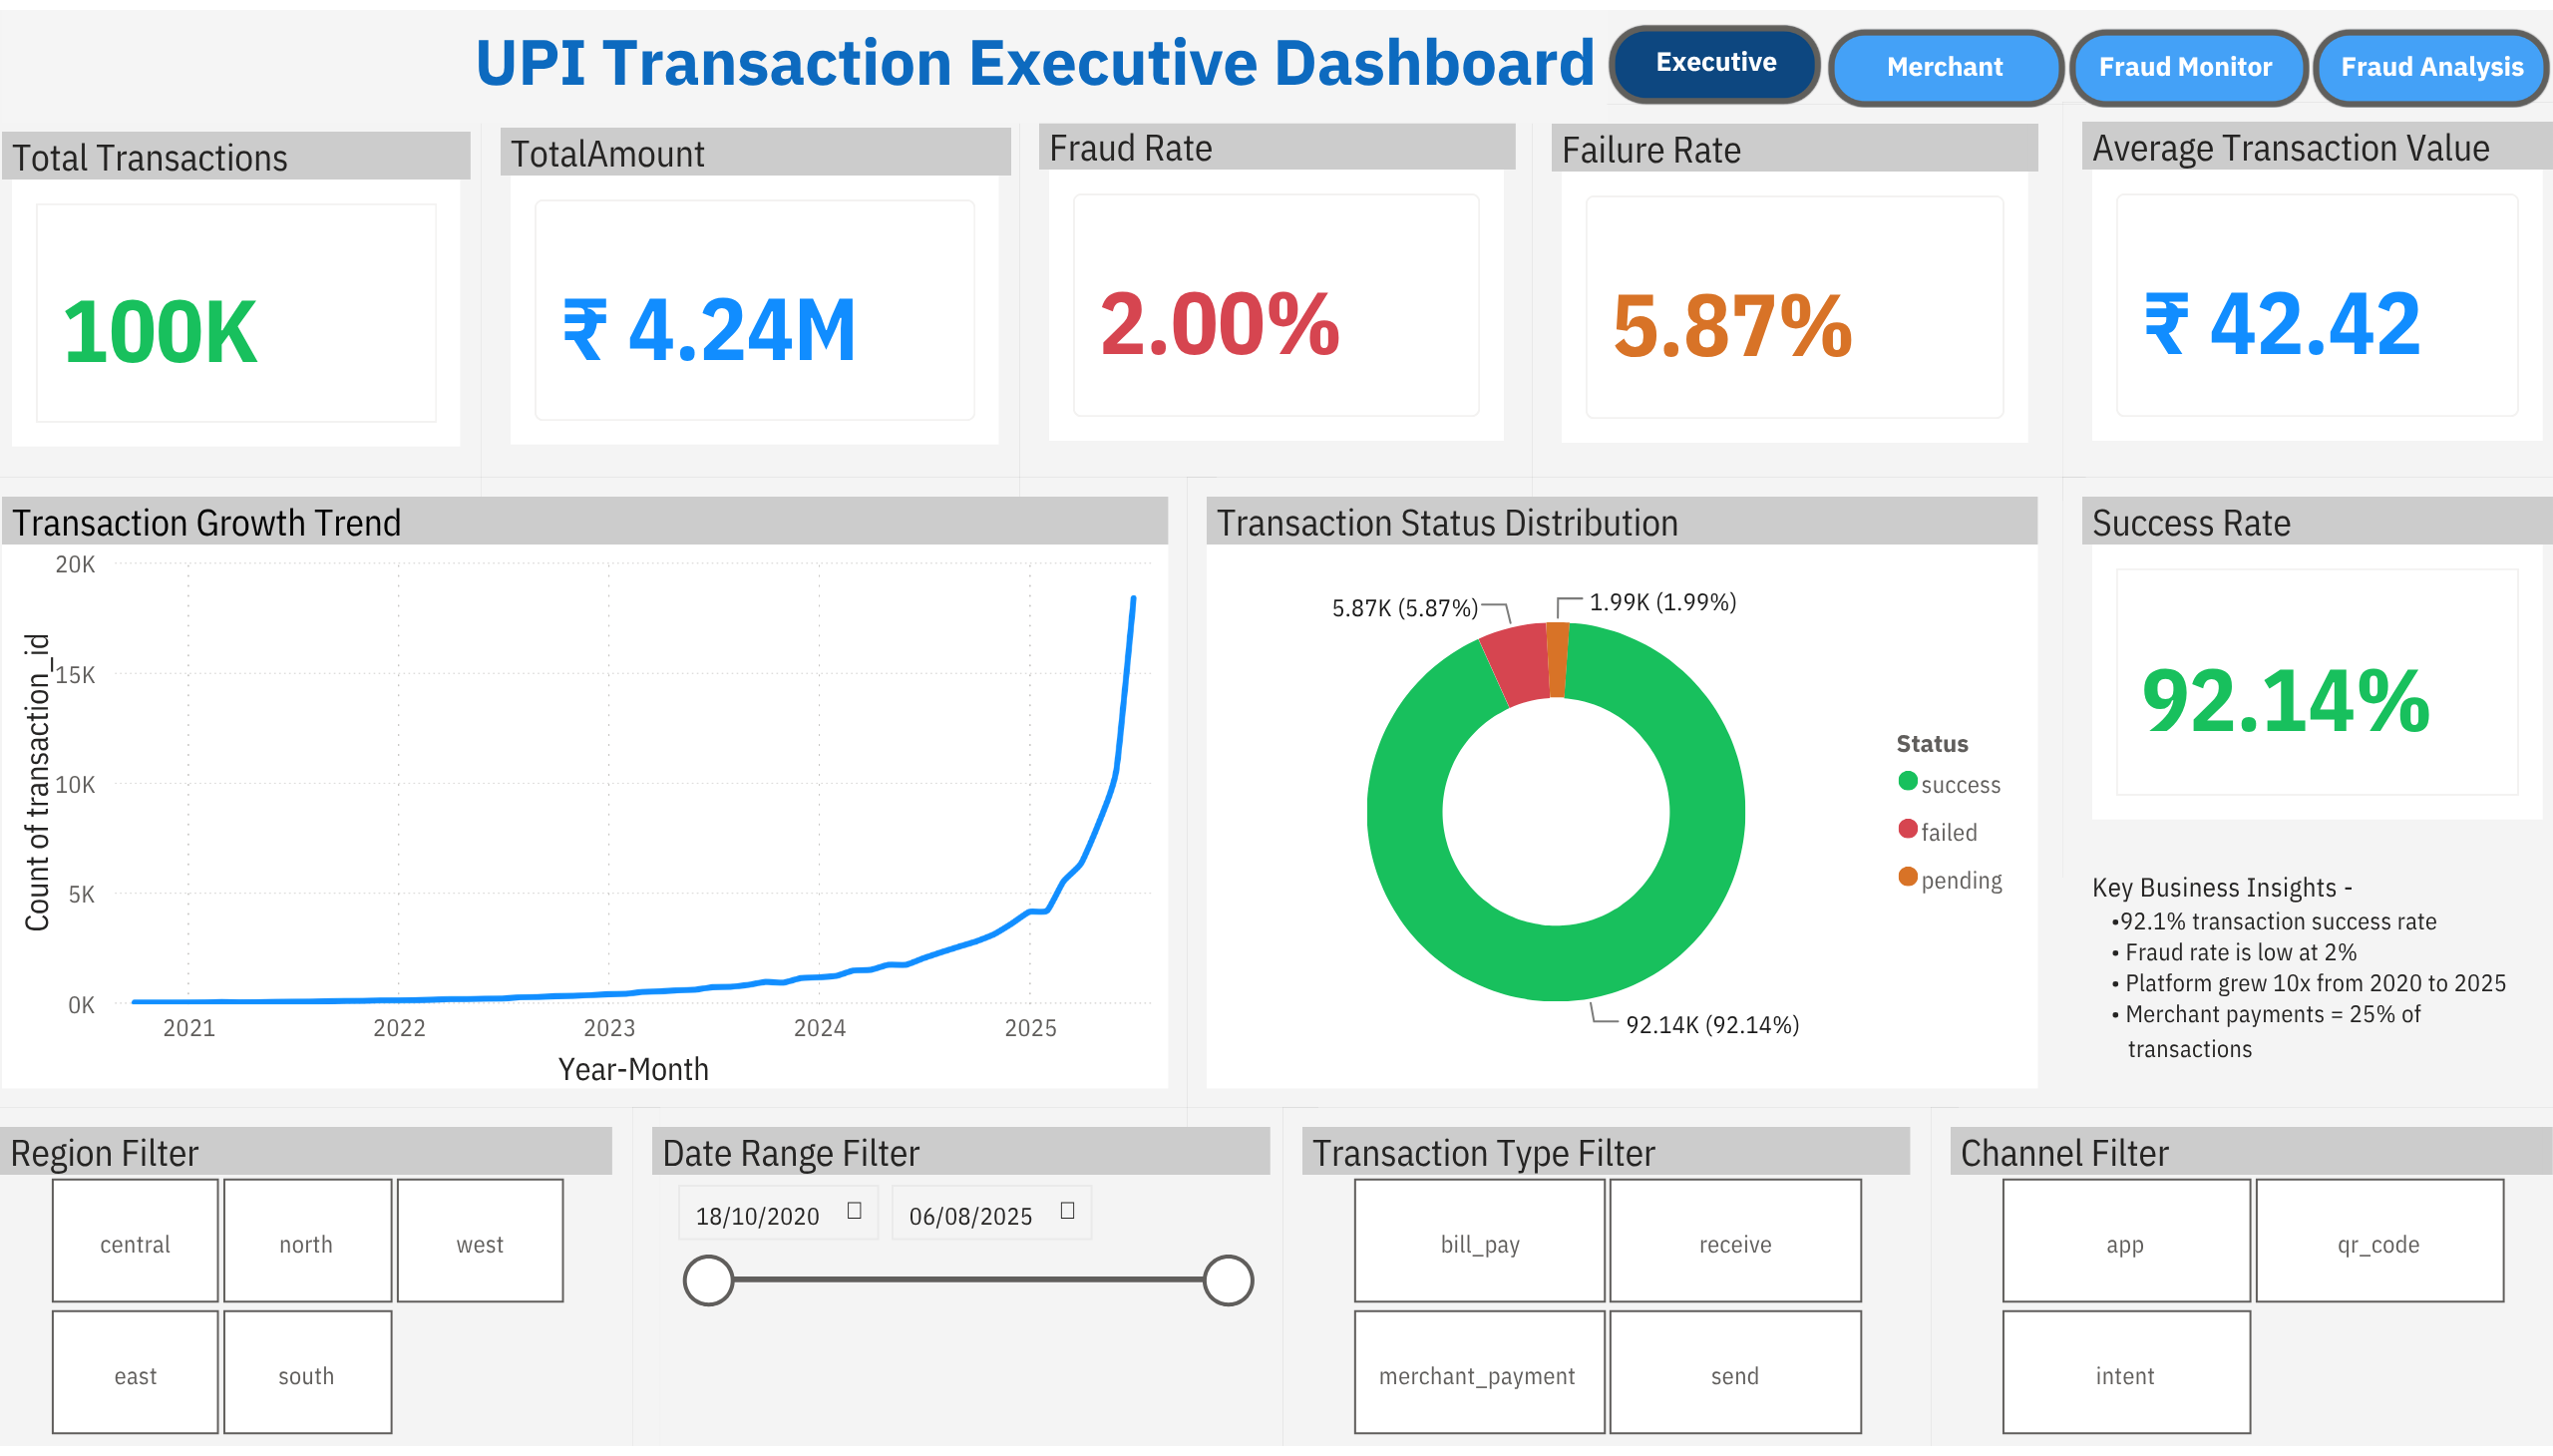

The page's visual inventory and layout, read from the dashboard file:
{"tool":"powerbi","page":{"name":"Executive Dashboard","canvas":[1280,720],"ordinal":0},"visuals":[{"type":"cardVisual","title":"Total Transactions","fields":{"Data":["upi_transaction_history.Total Transactions"]},"box":[1.2,60.7,235.2,163.4],"z":0},{"type":"cardVisual","title":"Total Amount","fields":{"Data":["upi_transaction_history.Total Amount"]},"box":[251.3,59.1,255.7,164.1],"z":1000},{"type":"cardVisual","title":"Average Transaction Value","fields":{"Data":["upi_transaction_history.Avg Transaction"]},"box":[1043.5,56.4,236.5,166],"z":2000},{"type":"cardVisual","title":"Fraud Rate","fields":{"Data":["upi_transaction_history.Fraud Rate %"]},"box":[520.7,56.4,238.6,166],"z":3000},{"type":"cardVisual","title":"Failure Rate","fields":{"Data":["upi_transaction_history.Failure Rate %"]},"box":[777.8,57.5,244.1,166],"z":4000},{"type":"areaChart","title":"Transaction Growth Trend","fields":{"Y":["CountNonNull(upi_transaction_history.transaction_id)"],"Category":["upi_transaction_history.timestamp.Variation.Date Hierarchy.Year","upi_transaction_history.timestamp.Variation.Date Hierarchy.Month"]},"box":[1.5,243.9,585.3,297.1],"z":5000},{"type":"donutChart","title":"Transaction Status Distribution","fields":{"Category":["upi_transaction_history.status"],"Y":["CountNonNull(upi_transaction_history.transaction_id)"]},"box":[604.5,243.9,416.8,297.1],"z":6000},{"type":"slicer","title":"Region Filter","fields":{"Values":["vw_clean_customer.region"]},"box":[0,559.7,307,160.5],"z":7000},{"type":"slicer","title":"Date Range Filter","fields":{"Values":["upi_transaction_history.timestamp"]},"box":[326.5,559.7,310.2,160.5],"z":8000},{"type":"slicer","title":"Transaction Type Filter","fields":{"Values":["upi_transaction_history.transaction_type"]},"box":[653,559.7,304.8,160.5],"z":9000},{"type":"slicer","title":"Channel Filter","fields":{"Values":["upi_transaction_history.channel"]},"box":[978.4,559.7,301.6,160.5],"z":10000},{"type":"textbox","box":[1.2,0,804.6,56.9],"z":11000},{"type":"textbox","box":[1043.6,424.6,236.4,116.4],"z":12000},{"type":"actionButton","box":[805.9,7.4,107.7,40.9],"z":13000},{"type":"actionButton","box":[915.5,8.7,120,40.5],"z":13001},{"type":"actionButton","box":[1037,8.7,121.5,40.5],"z":13002},{"type":"actionButton","box":[1158.5,8.7,120,40.5],"z":13003},{"type":"cardVisual","title":"Success Rate","fields":{"Data":["customer_feedback.Success Rate %"]},"box":[1043.6,243.9,236.4,167.1],"z":13004}]}

Visuals, with their boxes in screenshot pixels (x1, y1, x2, y2), scaled from the page's 1280x720 canvas onto the 2553x1456 screenshot:
"Total Transactions" cardVisual: detection(2, 123, 472, 453)
"Total Amount" cardVisual: detection(502, 120, 1011, 452)
"Average Transaction Value" cardVisual: detection(2081, 114, 2552, 450)
"Fraud Rate" cardVisual: detection(1038, 114, 1515, 450)
"Failure Rate" cardVisual: detection(1552, 117, 2038, 452)
"Transaction Growth Trend" areaChart: detection(3, 494, 1171, 1094)
"Transaction Status Distribution" donutChart: detection(1206, 494, 2037, 1094)
"Region Filter" slicer: detection(0, 1132, 612, 1455)
"Date Range Filter" slicer: detection(651, 1132, 1270, 1455)
"Transaction Type Filter" slicer: detection(1302, 1132, 1911, 1455)
"Channel Filter" slicer: detection(1952, 1132, 2552, 1455)
textbox: detection(2, 0, 1608, 115)
textbox: detection(2081, 859, 2552, 1094)
actionButton: detection(1608, 15, 1822, 98)
actionButton: detection(1826, 18, 2065, 100)
actionButton: detection(2068, 18, 2311, 100)
actionButton: detection(2311, 18, 2550, 100)
"Success Rate" cardVisual: detection(2081, 494, 2552, 831)
